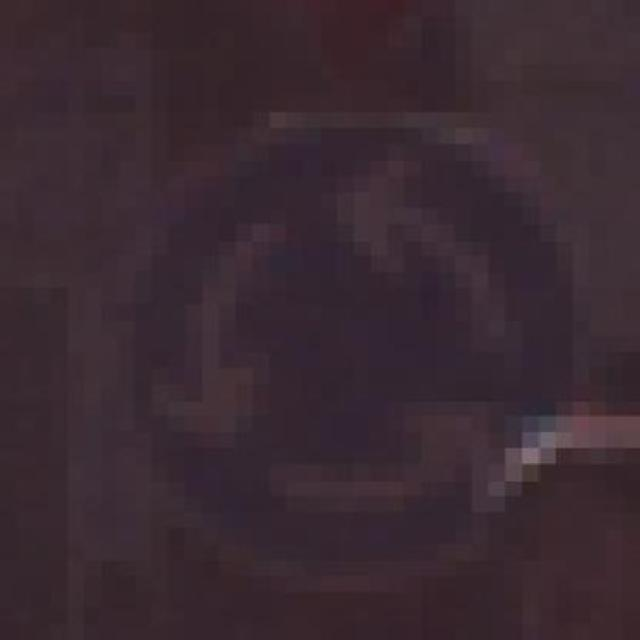Round-About: (101, 112, 607, 592)
